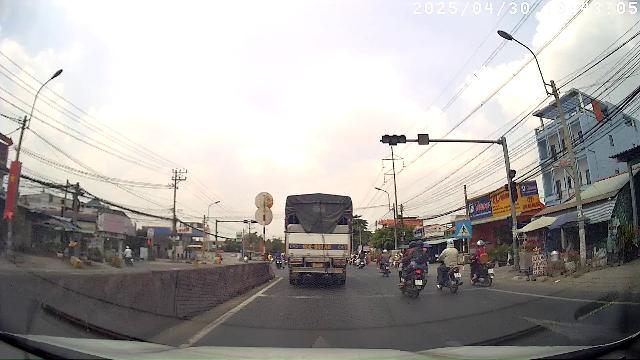423a-duong-nguoi-di-bo-sang-ngang-1: (456, 221, 472, 237)
